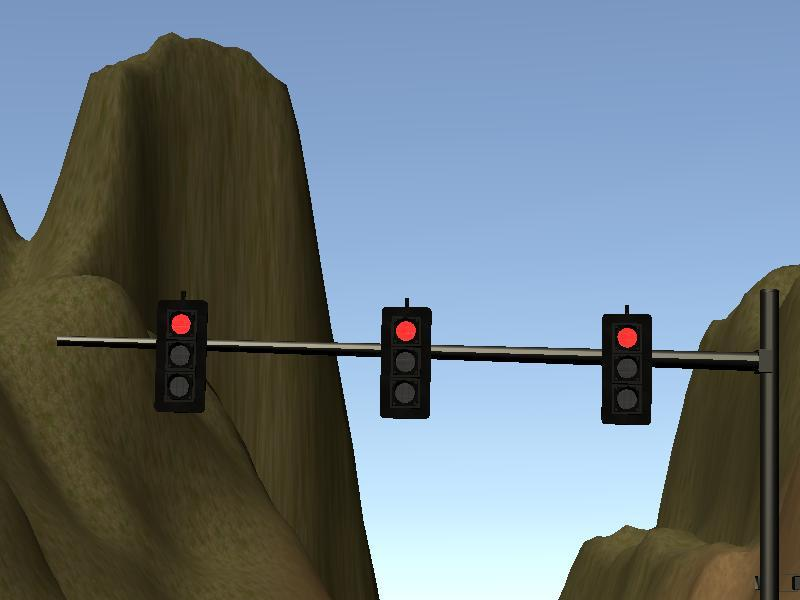Red: (154, 300, 206, 412), (600, 313, 652, 425), (379, 307, 431, 419)
